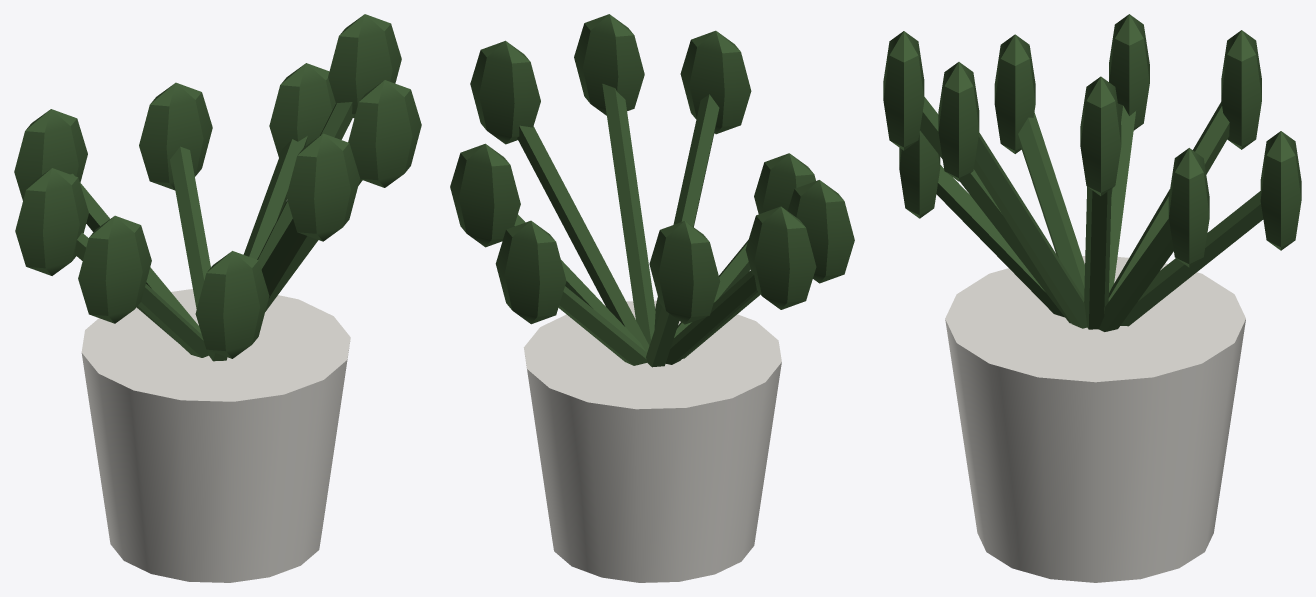
The model's file is prop_plant_small.glb.
3 views of the same model, side by side, from view 1: azimuth 30°, elevation 25°; view 2: azimuth 150°, elevation 25°; view 3: azimuth 270°, elevation 25° (orthographic). The views are drawn at different scales.
Parts seen in each view (by area): view 1: Plant; view 2: Plant; view 3: Plant.
Part boxes in pixels (box(x1,y1,x2,y2)): Plant: box(14, 14, 421, 582); Plant: box(450, 14, 854, 582); Plant: box(883, 14, 1301, 582).
Bounding box in the file's own units: 0.2226 × 0.2763 × 0.1944.
